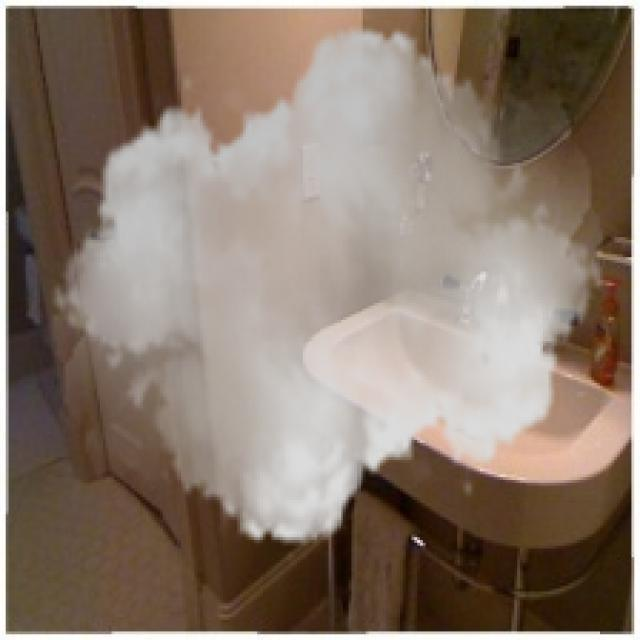Smoke: (51, 6, 603, 566)
